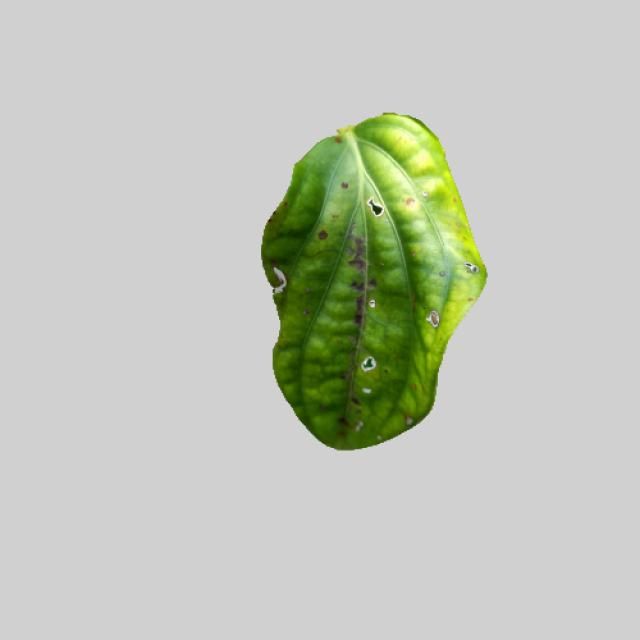yellow-mottle-virus: (246, 109, 503, 449)
